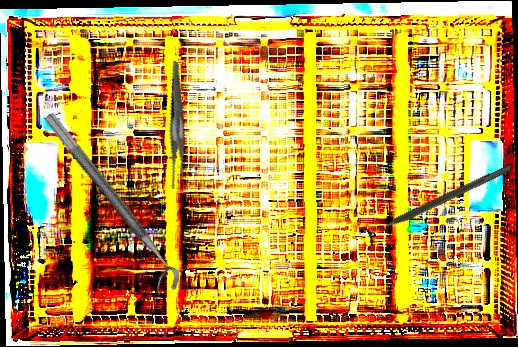Dressing Forceps: (137, 60, 220, 193)
Fixation Ring: (29, 111, 186, 300), (356, 155, 518, 252)
